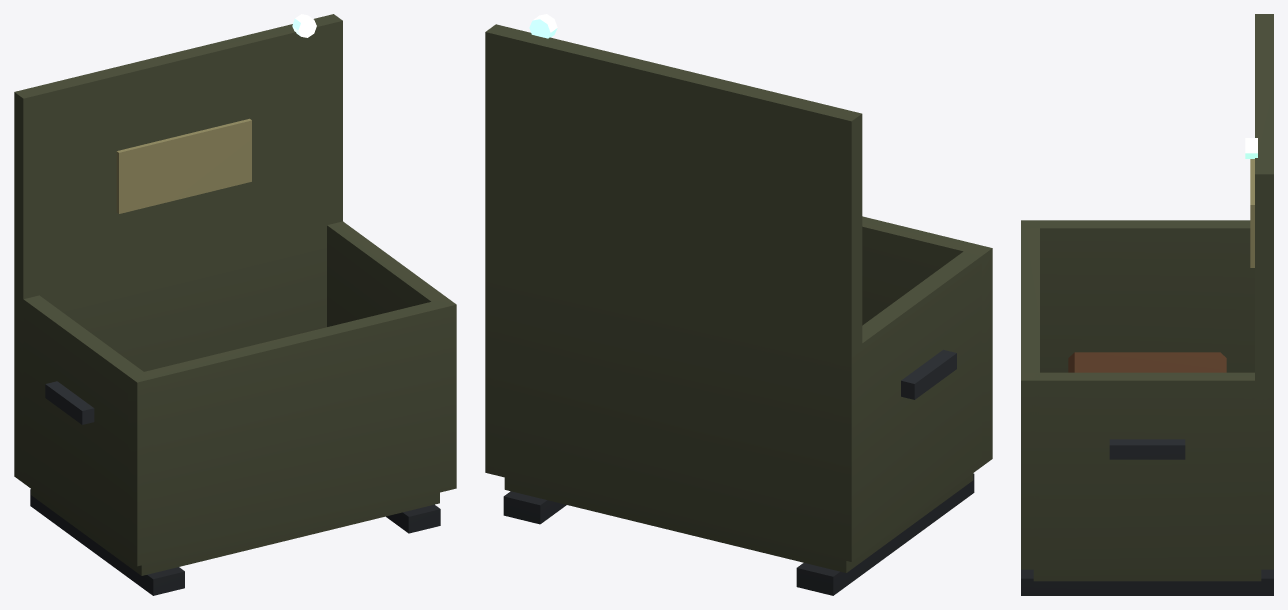
Rendered from cache_open.glb.
3 renders of one model, left to right at view 1: azimuth 30°, elevation 25°; view 2: azimuth 150°, elevation 25°; view 3: azimuth 270°, elevation 25°, orthographic. The views are drawn at different scales.
Visible parts, largest first — view 1: cache_open; view 2: cache_open; view 3: cache_open.
Boxes of the visible parts, x1,y1,x2,y2 form: cache_open: (14,14,456,595); cache_open: (485,14,992,595); cache_open: (1021,14,1273,595).
Size of the model in its own units: 1.29 by 1.55 by 0.8.
